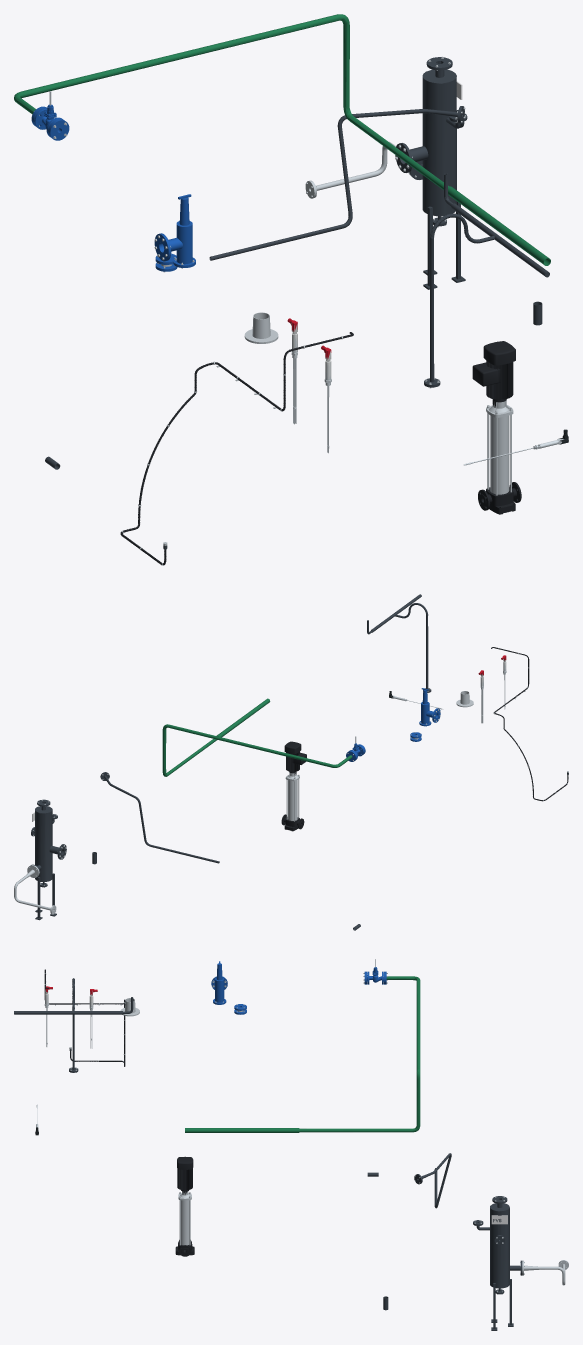
The picture shows the model from 3 angles, top to bottom: view 1: azimuth 30°, elevation 25°; view 2: azimuth 150°, elevation 25°; view 3: azimuth 270°, elevation 25°; orthographic projection. The views are drawn at different scales.
Visible parts, largest first — view 1: separator_fv8 / dark, to_direct / green, pressure_header / dark, pump_1 CAD solid 15, tds_without_fv / dark, safety_2 / blue, pump_1 CAD solid 2, wiring_lcs600 / black, pump_delivery / green, pump_1 CAD solid 0, steam_mount_adapter / steel, fv_to_trap_gap / steel; view 2: separator_fv8 / dark, to_direct / green, pressure_header / dark, tds_without_fv / dark, pump_1 CAD solid 15, wiring_lcs600 / black; view 3: separator_fv8 / dark, to_direct / green, pressure_header / dark, pump_delivery / green, pump_1 CAD solid 15, tds_without_fv / dark.
Part boxes in pixels (x1=…): separator_fv8 / dark: x1=395, y1=57, x2=467, y2=289; to_direct / green: x1=14, y1=14, x2=448, y2=189; pressure_header / dark: x1=424, y1=173, x2=549, y2=387; pump_1 CAD solid 15: x1=472, y1=341, x2=515, y2=400; tds_without_fv / dark: x1=209, y1=106, x2=464, y2=260; safety_2 / blue: x1=154, y1=194, x2=195, y2=267; pump_1 CAD solid 2: x1=490, y1=415, x2=509, y2=494; wiring_lcs600 / black: x1=120, y1=332, x2=353, y2=565; pump_delivery / green: x1=448, y1=186, x2=550, y2=265; pump_1 CAD solid 0: x1=478, y1=482, x2=521, y2=514; steam_mount_adapter / steel: x1=244, y1=312, x2=278, y2=343; fv_to_trap_gap / steel: x1=305, y1=141, x2=411, y2=198; separator_fv8 / dark: x1=31, y1=799, x2=66, y2=920; to_direct / green: x1=162, y1=724, x2=352, y2=776; pressure_header / dark: x1=367, y1=594, x2=431, y2=692; tds_without_fv / dark: x1=100, y1=772, x2=219, y2=863; pump_1 CAD solid 15: x1=284, y1=741, x2=306, y2=772; wiring_lcs600 / black: x1=491, y1=647, x2=568, y2=801; separator_fv8 / dark: x1=473, y1=1196, x2=522, y2=1330; to_direct / green: x1=299, y1=976, x2=420, y2=1132; pressure_header / dark: x1=14, y1=978, x2=133, y2=1072; pump_delivery / green: x1=185, y1=1128, x2=299, y2=1132; pump_1 CAD solid 15: x1=177, y1=1156, x2=193, y2=1190; tds_without_fv / dark: x1=414, y1=1153, x2=451, y2=1208.
Bounding box in the file's own units: 4.91 × 2.96 × 6.08.
